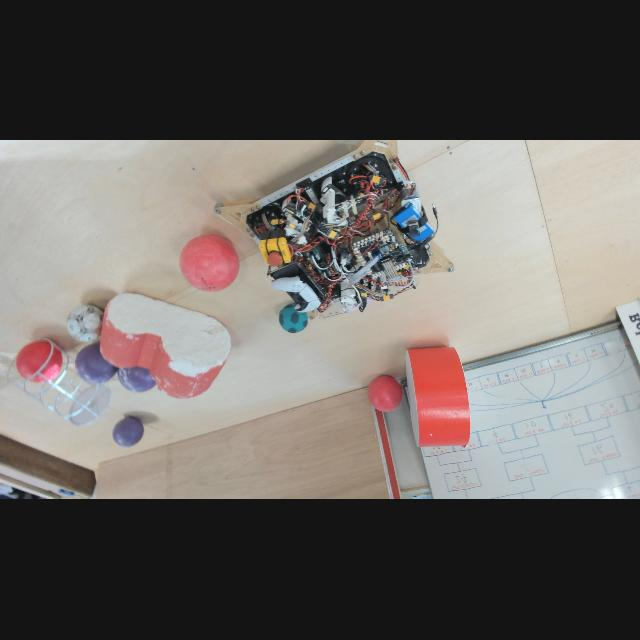P: (75, 342, 119, 384), (117, 358, 159, 394), (112, 418, 144, 448)
R: (180, 235, 240, 293), (15, 340, 62, 384), (367, 377, 403, 413)
S: (5, 336, 113, 428)
